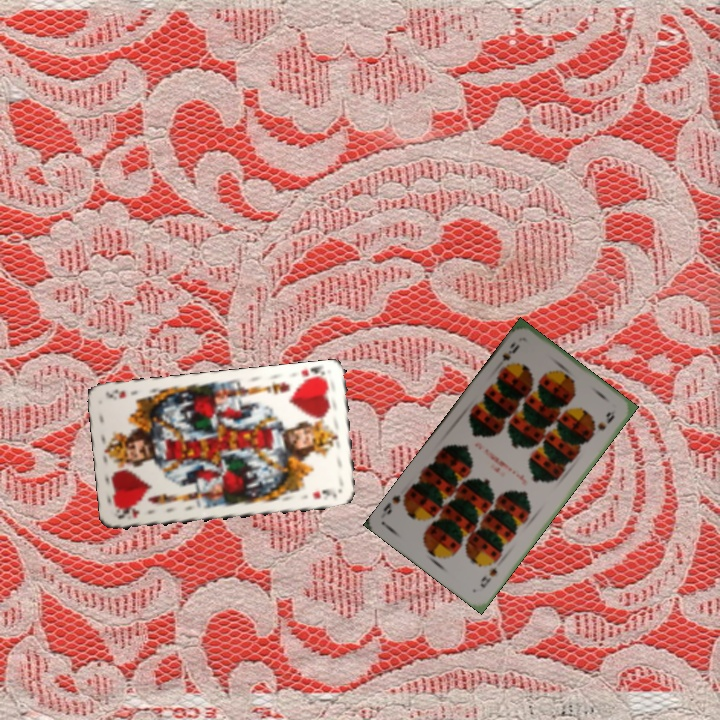HK: (294, 364, 329, 385), (114, 504, 142, 522)
S9: (497, 338, 522, 372), (476, 563, 500, 591)
